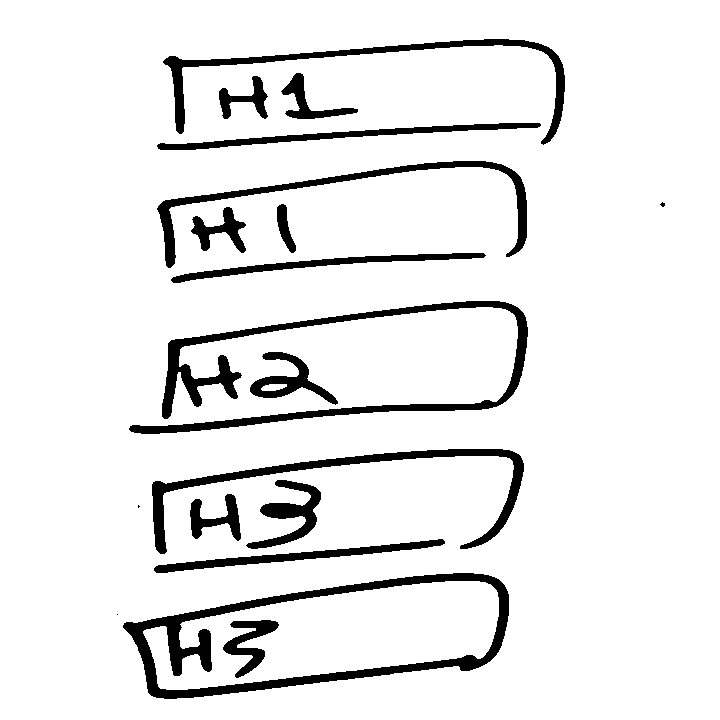heading1: (154, 33, 572, 154), (153, 158, 533, 281)
heading2: (125, 297, 530, 437)
heading3: (118, 571, 520, 702), (141, 446, 530, 576)
